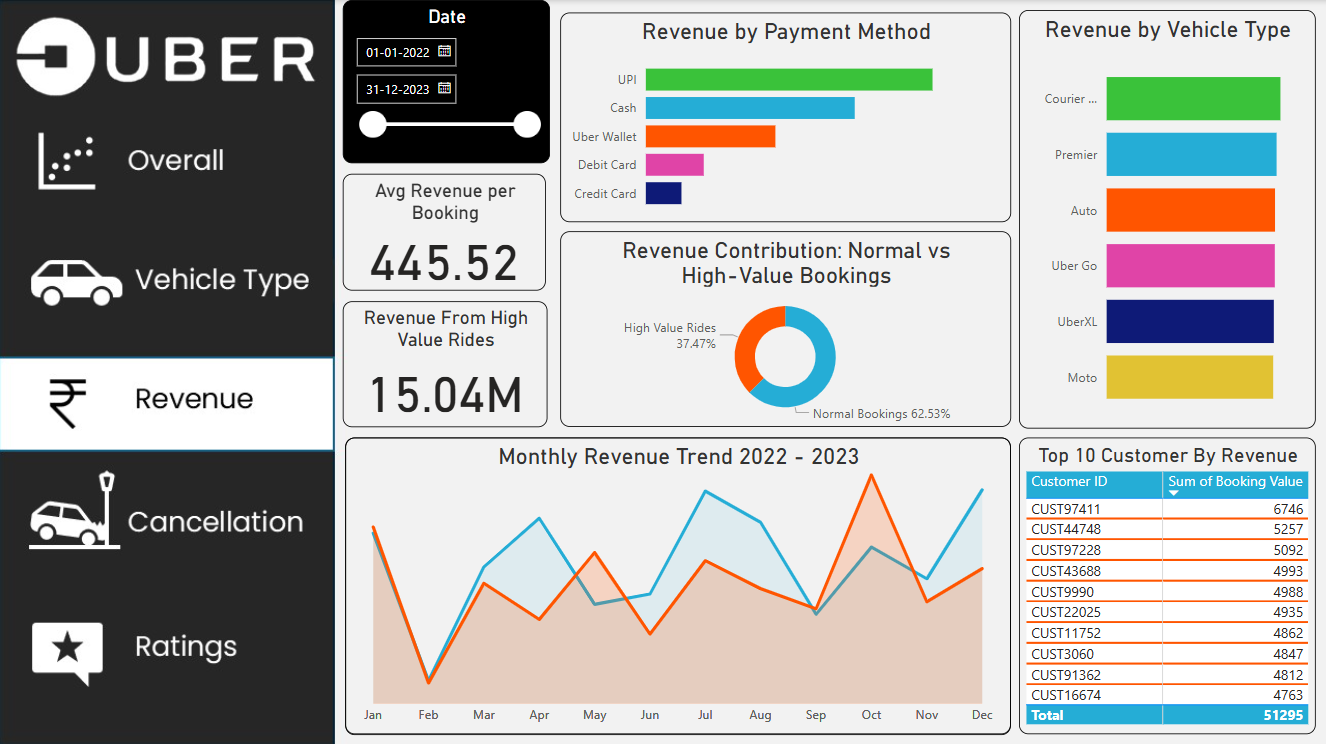

What the dashboard file says about the page in this screenshot:
{"tool":"powerbi","page":{"name":"Revenue","canvas":[1280,720],"ordinal":2},"visuals":[{"type":"stackedAreaChart","title":"Monthly Revenue Trend 2022 - 2023","fields":{"Category":["Uber_data.Month"],"Y":["Sum(Uber_data.Booking Value)"]},"box":[333.8,422.5,642.5,286.2],"z":0},{"type":"stackedAreaChart","fields":{"Category":["Uber_data.Month"],"Y":["Sum(Uber_data.Booking Value)"]},"box":[333.8,422.5,642.5,287.5],"z":1000},{"type":"barChart","title":"Revenue by Payment Method","fields":{"Category":["Uber_data.Payment Method"],"Y":["Sum(Uber_data.Booking Value)"],"Series":["Uber_data.Payment Method"]},"box":[541.2,12.5,435,202.5],"z":2000},{"type":"barChart","title":"Revenue by Vehicle Type","fields":{"Category":["Uber_data.Vehicle Type"],"Y":["Sum(Uber_data.Booking Value)"],"Series":["Uber_data.Vehicle Type"]},"box":[985,10,286.2,403.8],"z":3000},{"type":"donutChart","title":"Revenue Contribution: Normal vs High-Value Bookings","fields":{"Category":["Uber_data.Booking Category"],"Y":["Sum(Uber_data.Booking Value)"]},"box":[541.2,223.8,435,188.8],"z":4000},{"type":"tableEx","title":"Top 10 Customer By Revenue","fields":{"Values":["Uber_data.Customer ID","Sum(Uber_data.Booking Value)"]},"box":[985,422.5,286.2,286.2],"z":5000},{"type":"slicer","title":"Date","fields":{"Values":["Uber_data.Date"]},"box":[331.2,0,200,157.5],"z":6000},{"type":"card","title":"Revenue From High Value Rides","fields":{"Values":["Uber_data.High Value Rides"]},"box":[331.2,291.2,197.5,121.2],"z":7000},{"type":"card","title":"Avg Revenue per Booking","fields":{"Values":["Avg(Uber_data.Booking Value)"]},"box":[331.2,167.5,196.2,112.5],"z":8000},{"type":"actionButton","box":[0,113.8,322.5,90],"z":8001},{"type":"actionButton","box":[0,228.8,322.5,90],"z":8002},{"type":"actionButton","box":[0,448.8,322.5,90],"z":8003},{"type":"actionButton","box":[0,581.2,322.5,90],"z":8004}]}

Visuals, with their boxes in screenshot pixels (x1, y1, x2, y2), scaled from the page's 1280x720 canvas onto the 1326x744 screenshot:
"Monthly Revenue Trend 2022 - 2023" stackedAreaChart: region(346, 437, 1011, 732)
stackedAreaChart - Uber_data.Month x Sum(Uber_data.Booking Value): region(346, 437, 1011, 734)
"Revenue by Payment Method" barChart: region(561, 13, 1011, 222)
"Revenue by Vehicle Type" barChart: region(1020, 10, 1317, 428)
"Revenue Contribution: Normal vs High-Value Bookings" donutChart: region(561, 231, 1011, 426)
"Top 10 Customer By Revenue" tableEx: region(1020, 437, 1317, 732)
"Date" slicer: region(343, 0, 550, 163)
"Revenue From High Value Rides" card: region(343, 301, 548, 426)
"Avg Revenue per Booking" card: region(343, 173, 546, 289)
actionButton: region(0, 118, 334, 211)
actionButton: region(0, 236, 334, 329)
actionButton: region(0, 464, 334, 557)
actionButton: region(0, 601, 334, 694)
